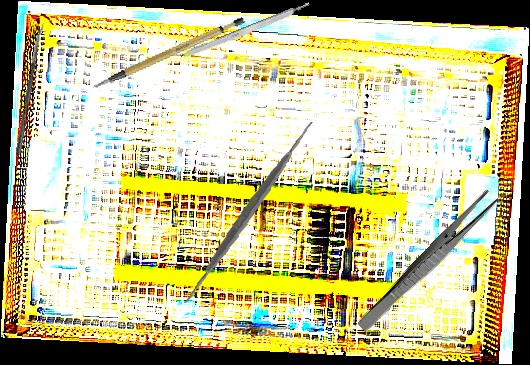Dressing Forceps: (355, 187, 500, 337)
Scalpel Handle: (84, 14, 251, 90), (179, 1, 312, 62)
Spatula Surgical: (155, 120, 343, 305)
Surgical Spoon: (15, 22, 45, 156)
